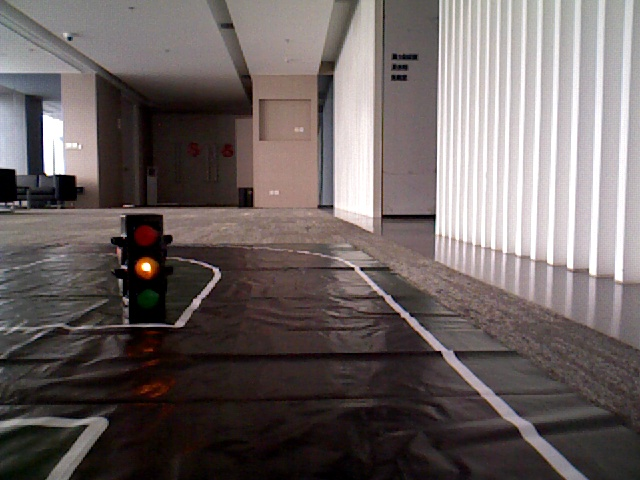yellow: (125, 213, 166, 317)
